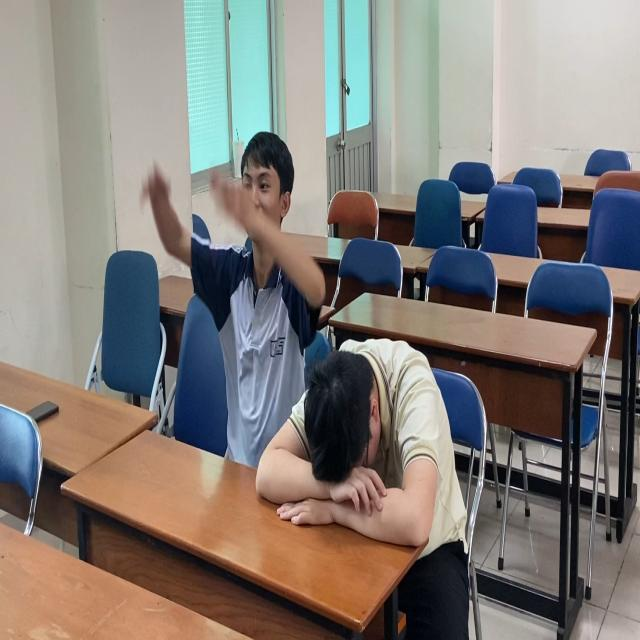sleep: (255, 335, 449, 555)
